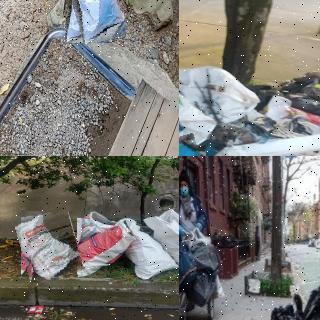Garbage: (18, 208, 82, 281), (72, 219, 131, 276), (179, 78, 218, 156), (56, 0, 120, 44), (261, 278, 320, 320), (143, 211, 179, 276), (284, 68, 320, 105)
